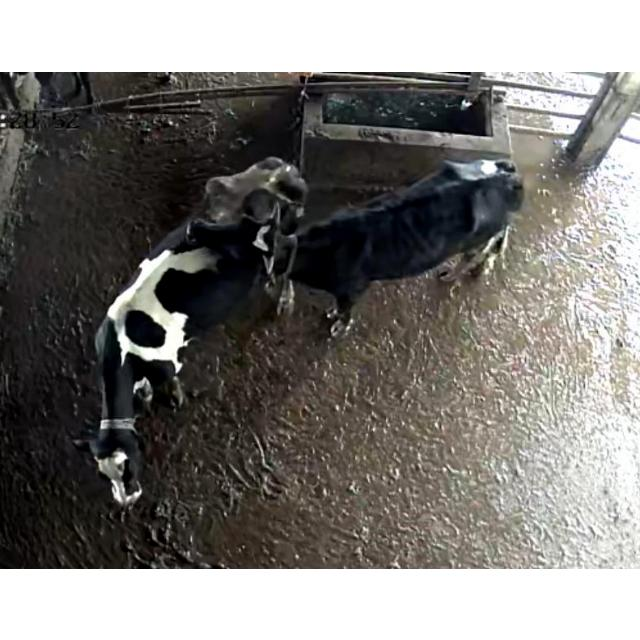propping: (153, 202, 350, 286)
